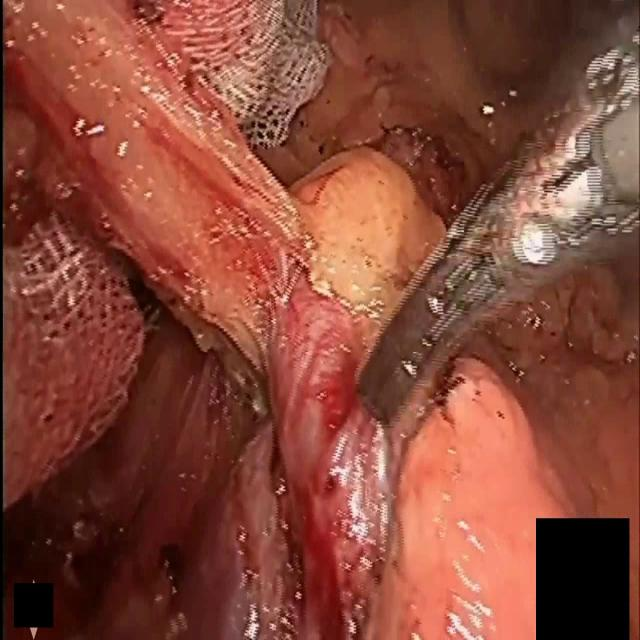surgical-tool: (357, 44, 640, 424)
